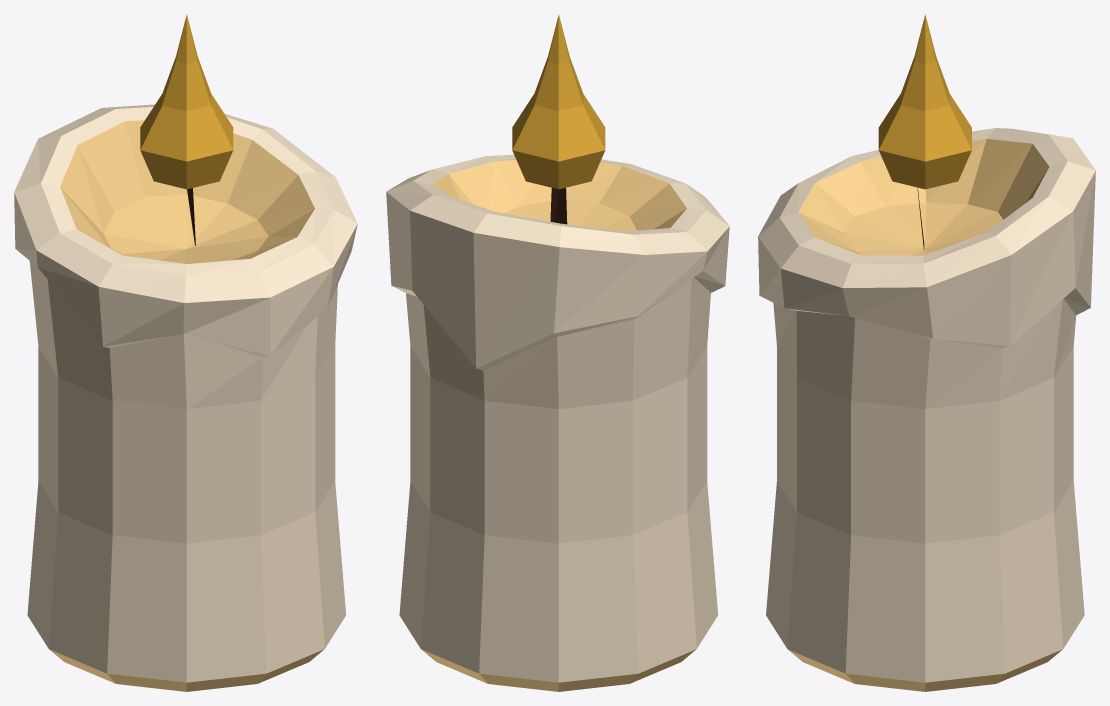
File: Candle_1.glb
The picture shows the model from 3 angles, left to right: view 1: azimuth 30°, elevation 25°; view 2: azimuth 150°, elevation 25°; view 3: azimuth 270°, elevation 25°; orthographic projection.
Bounding box in the file's own units: 10.75 × 21.22 × 10.51.
Materials: 1 (1 with a texture image).
